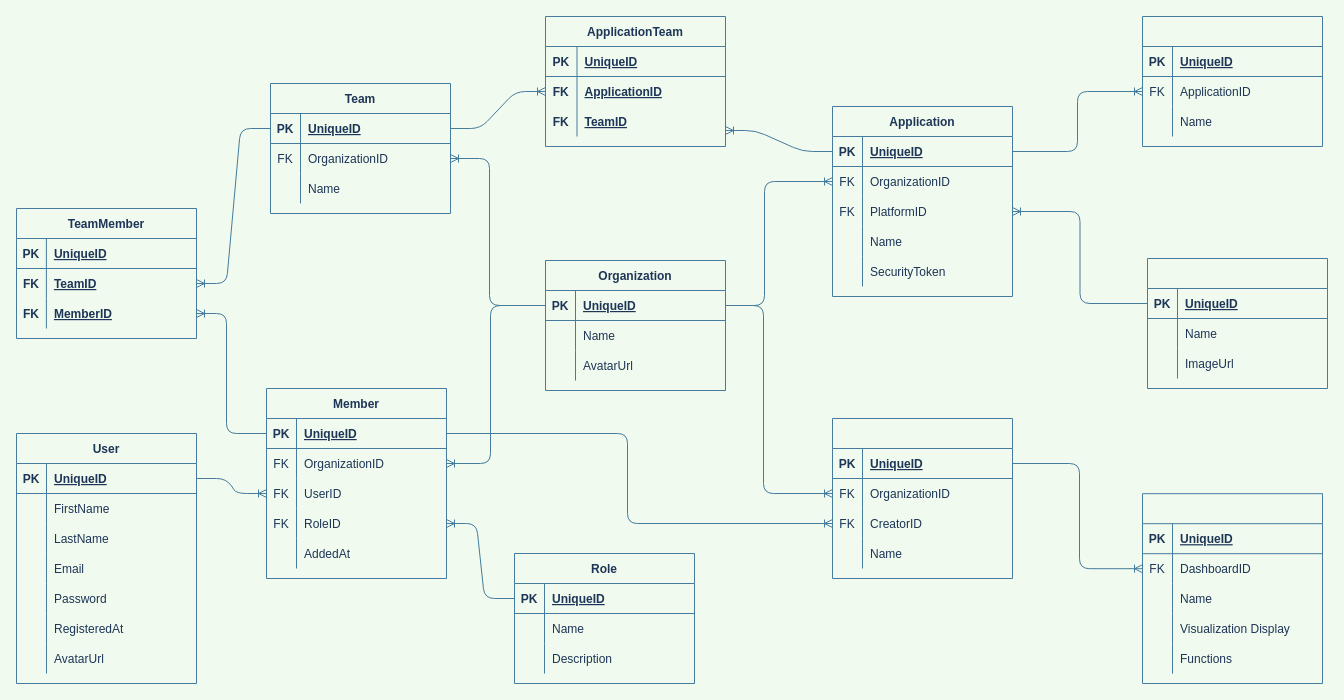
This 1344x700 diagram has some shape labels left out. Each missing label, with the box of its shape:
Dashboard: (832, 418, 1012, 578)
Environment: (1142, 16, 1322, 146)
Platform: (1146, 258, 1328, 388)
Tile: (1142, 493, 1322, 684)
